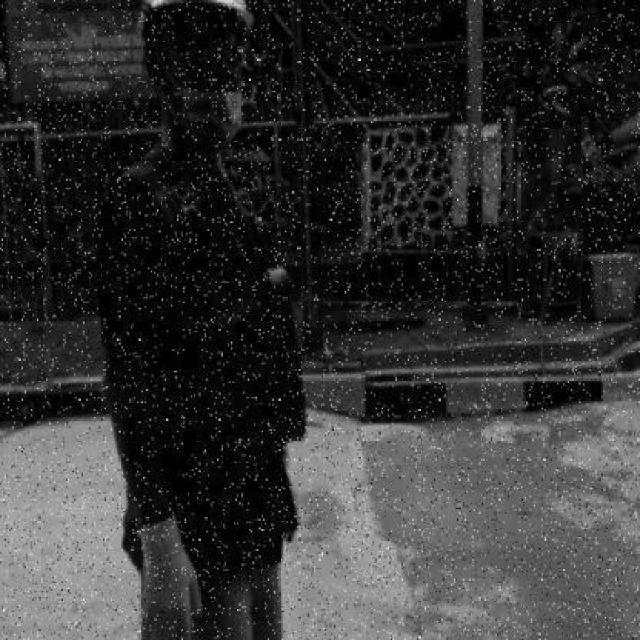Gloves: (131, 500, 217, 638)
Mask: (180, 73, 246, 152)
Protective Glasses: (177, 18, 251, 72)
Vest: (187, 251, 311, 489)
